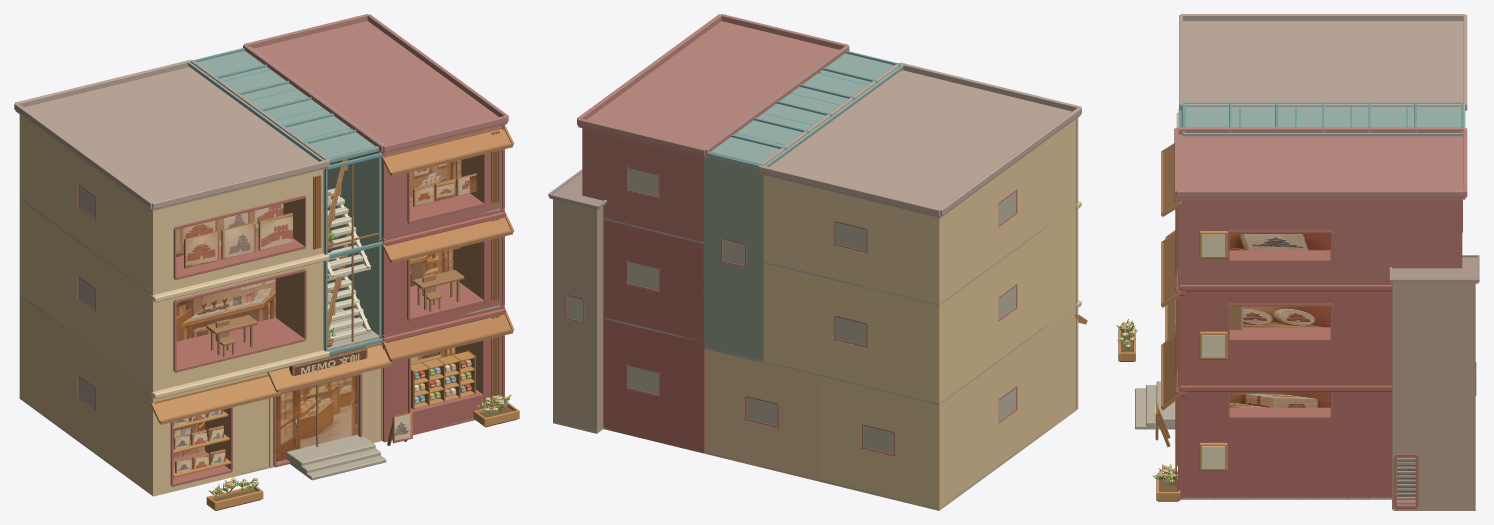
3 renders of one model, left to right at view 1: azimuth 30°, elevation 25°; view 2: azimuth 150°, elevation 25°; view 3: azimuth 270°, elevation 25°, orthographic. The views are drawn at different scales.
Visible parts, largest first — view 1: SM_18_01_建筑墙体, SM_18_02_曲面屋顶, SM_18_04_门窗楼梯, SM_18_06_景观设施, SM_18_03_木构回廊, SM_18_05_景观植物; view 2: SM_18_01_建筑墙体, SM_18_02_曲面屋顶, SM_18_04_门窗楼梯, SM_18_03_木构回廊; view 3: SM_18_01_建筑墙体, SM_18_02_曲面屋顶, SM_18_04_门窗楼梯, SM_18_03_木构回廊, SM_18_05_景观植物.
Boxes of the visible parts, bbox=[...] form: SM_18_01_建筑墙体: bbox=[19, 114, 504, 496]; SM_18_02_曲面屋顶: bbox=[14, 14, 514, 424]; SM_18_04_门窗楼梯: bbox=[77, 128, 499, 486]; SM_18_06_景观设施: bbox=[173, 173, 477, 477]; SM_18_03_木构回廊: bbox=[151, 125, 505, 495]; SM_18_05_景观植物: bbox=[206, 230, 519, 510]; SM_18_01_建筑墙体: bbox=[553, 119, 1076, 510]; SM_18_02_曲面屋顶: bbox=[548, 14, 1087, 324]; SM_18_04_门窗楼梯: bbox=[565, 71, 1016, 456]; SM_18_03_木构回廊: bbox=[900, 70, 1081, 409]; SM_18_01_建筑墙体: bbox=[1179, 199, 1475, 510]; SM_18_02_曲面屋顶: bbox=[1161, 14, 1479, 410]; SM_18_04_门窗楼梯: bbox=[1135, 109, 1476, 508]; SM_18_03_木构回廊: bbox=[1176, 112, 1394, 509]; SM_18_05_景观植物: bbox=[1116, 319, 1180, 501].
Bounding box in the file's own units: 10.23 × 7.72 × 8.2.
Materials: 45 (2 with a texture image).
